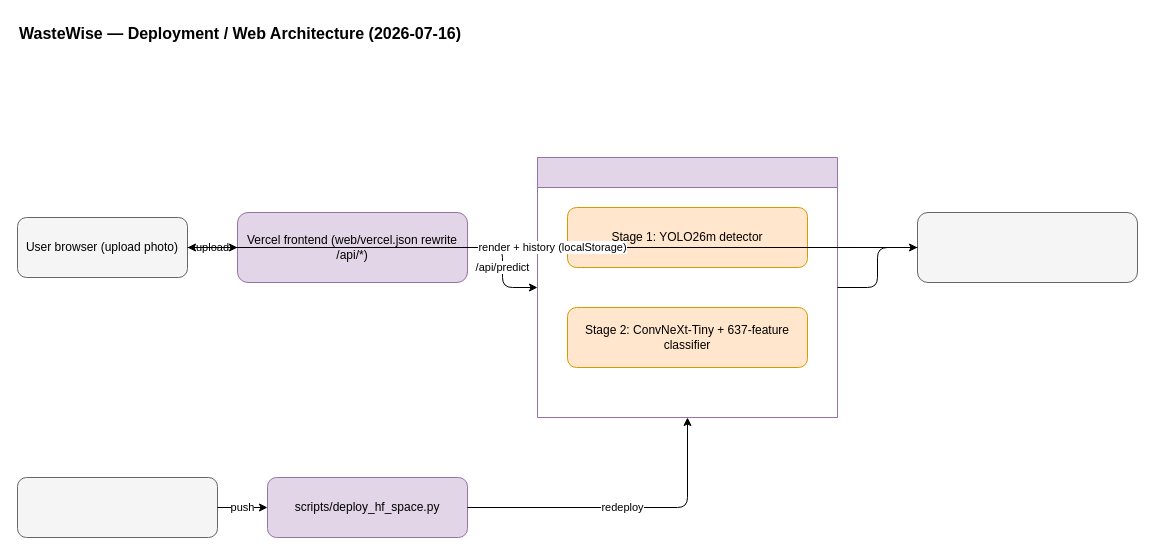
Image size: 1155x555. Some labels were removed from this diagram. Here are the shapes that lost their labels. From the top down, the box of each, then its label:
(916, 212, 1138, 282): JSON: material, bin route, top-3 scores, latency
(536, 156, 838, 418): Hugging Face Space (Docker, CPU Basic) — web/server.py
(16, 476, 218, 538): GitHub repo (khoaph0712/Final-Year-Project-PDK)
